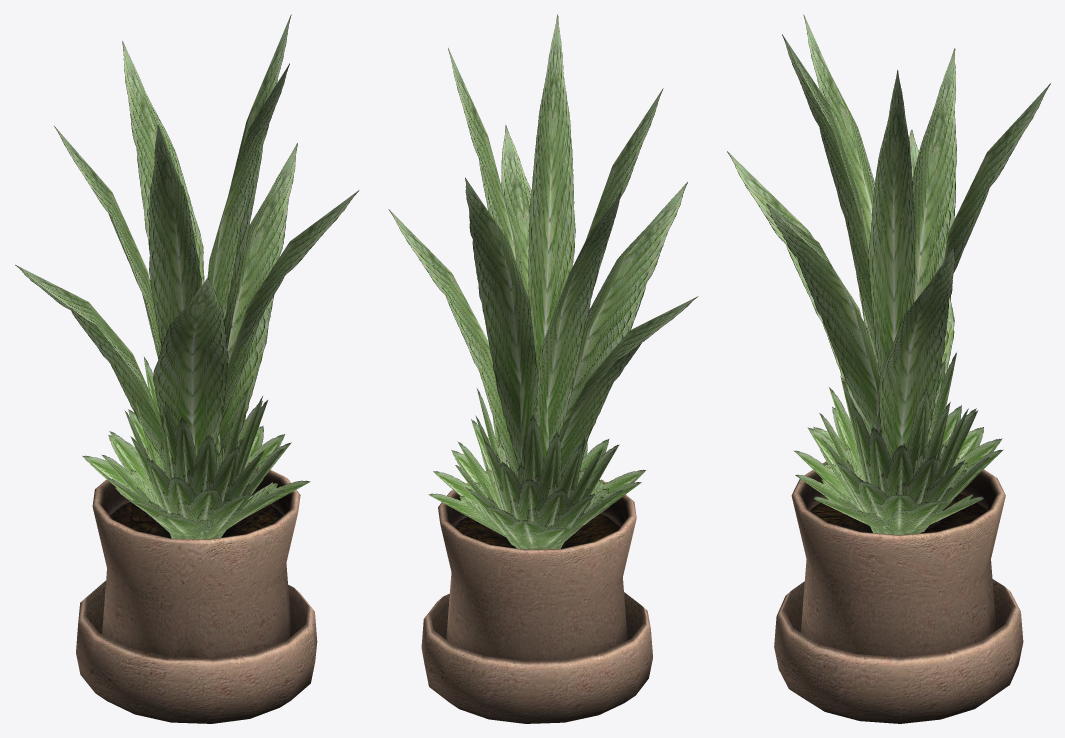
Rendered from plant.dae.
3 views of the same model, side by side, from view 1: azimuth 30°, elevation 25°; view 2: azimuth 150°, elevation 25°; view 3: azimuth 270°, elevation 25° (orthographic). The views are drawn at different scales.
Visible parts, largest first — view 1: Low-Poly_Plant__001, Low-Poly_Plant_; view 2: Low-Poly_Plant__001, Low-Poly_Plant_; view 3: Low-Poly_Plant__001, Low-Poly_Plant_.
Part boxes in pixels (bbox=[...]): Low-Poly_Plant__001: bbox=[15, 14, 359, 539]; Low-Poly_Plant_: bbox=[76, 470, 317, 723]; Low-Poly_Plant__001: bbox=[388, 14, 698, 549]; Low-Poly_Plant_: bbox=[421, 480, 652, 723]; Low-Poly_Plant__001: bbox=[727, 14, 1050, 535]; Low-Poly_Plant_: bbox=[774, 461, 1023, 723].
Size of the model in its own units: 2.29 by 2.08 by 4.73.
Materials: 2 (2 with a texture image).
